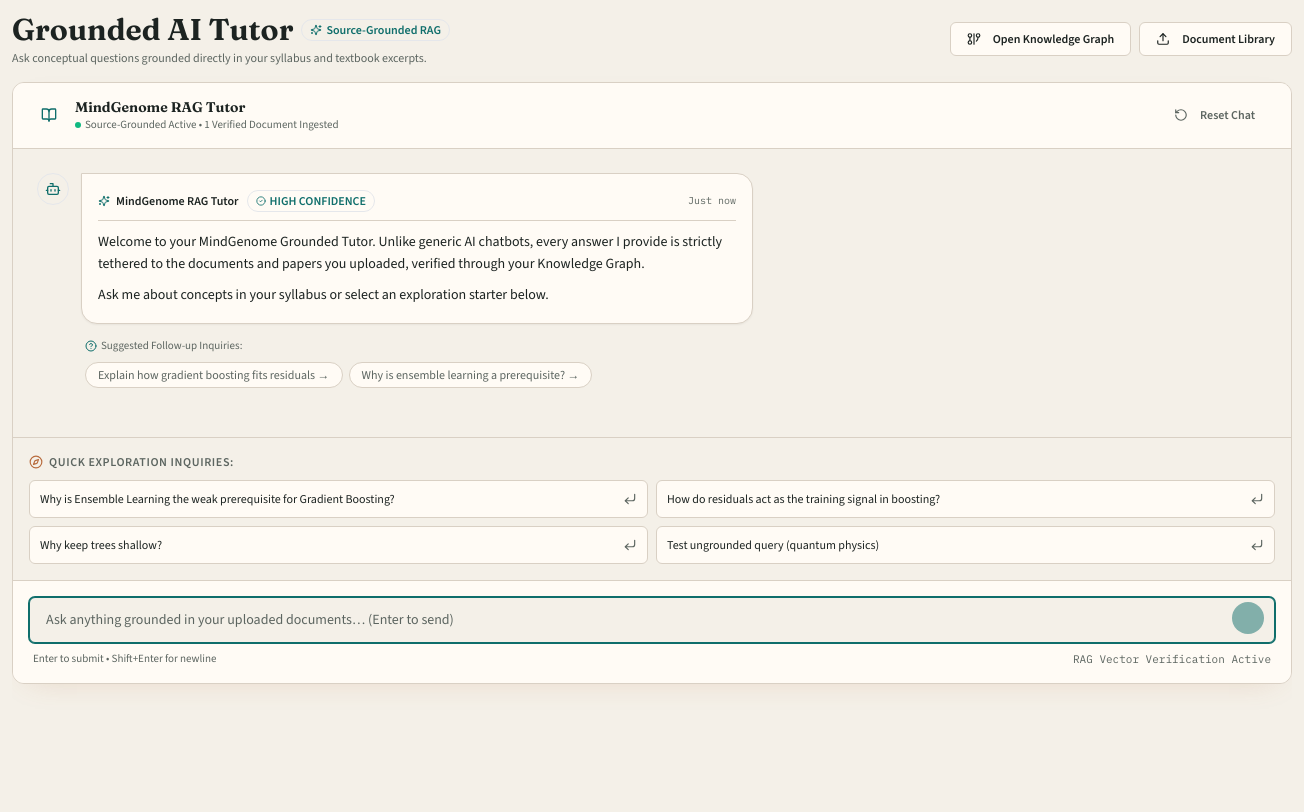
TutorPage › displays low confidence ungrounded alert for out-of-scope questions
The width and height of the screenshot is (1304, 812).
In the text box with placeholder "Ask anything grounded in your uploaded documents": x=652, y=620 [30, 598, 1274, 642], type "What does quantum annealing do?"
Then press Enter
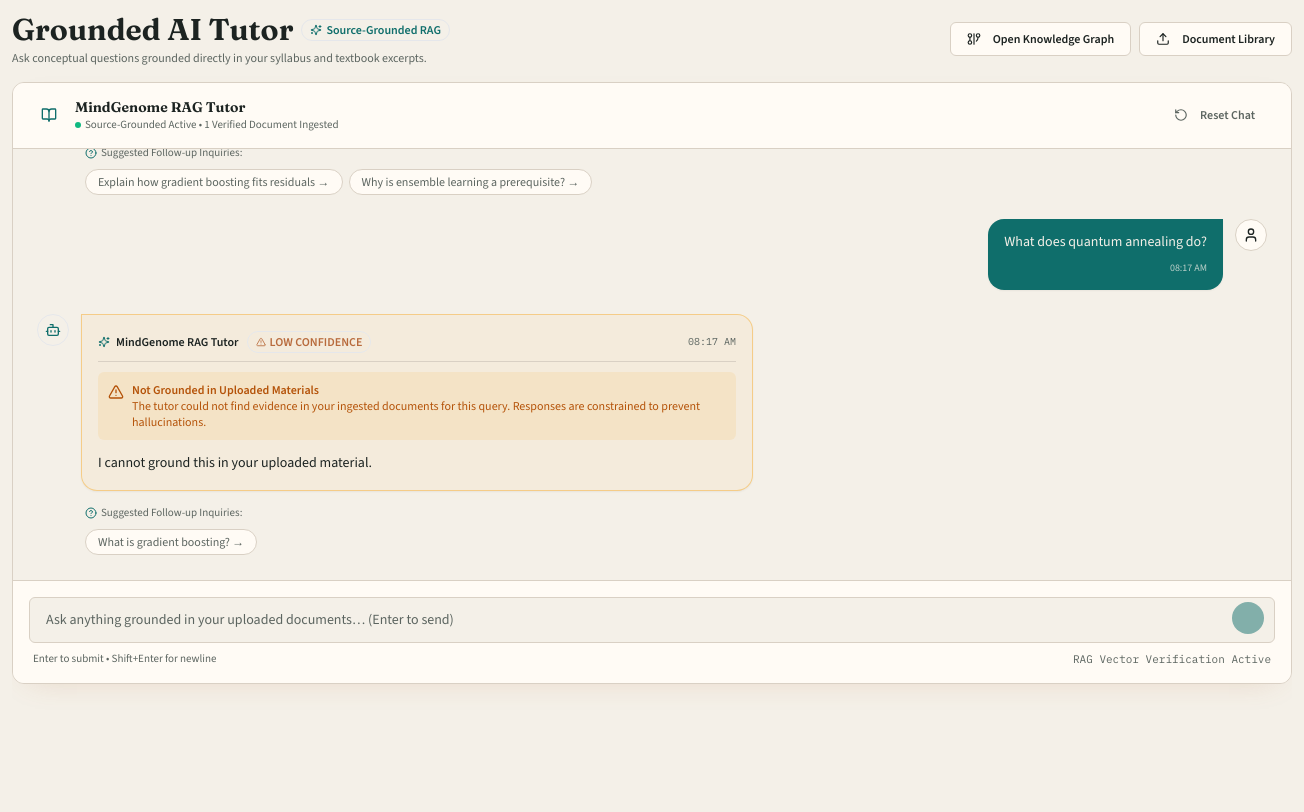
Now the text "Not Grounded in Uploaded Materials" is shown, box [132, 382, 319, 398]
